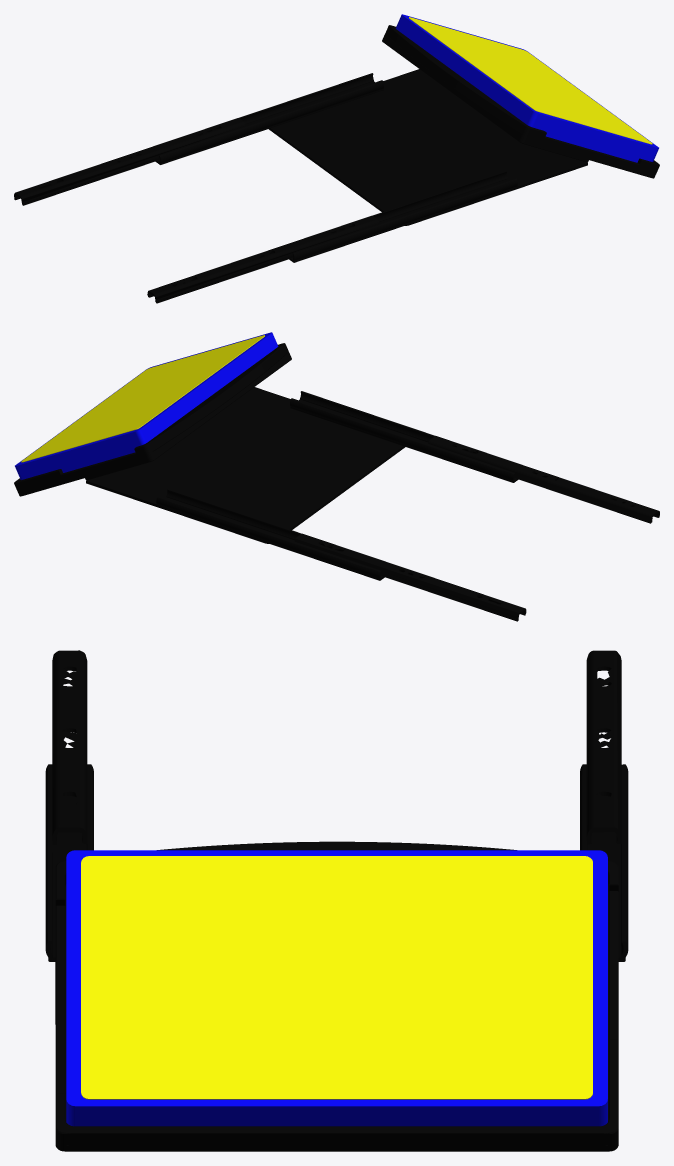
File: touchscreenExtended.glb
3 renders of one model, top to bottom at view 1: azimuth 30°, elevation 25°; view 2: azimuth 150°, elevation 25°; view 3: azimuth 270°, elevation 25°, orthographic. The views are drawn at different scales.
Bounding box in the file's own units: 16.26 × 2.91 × 8.07.
